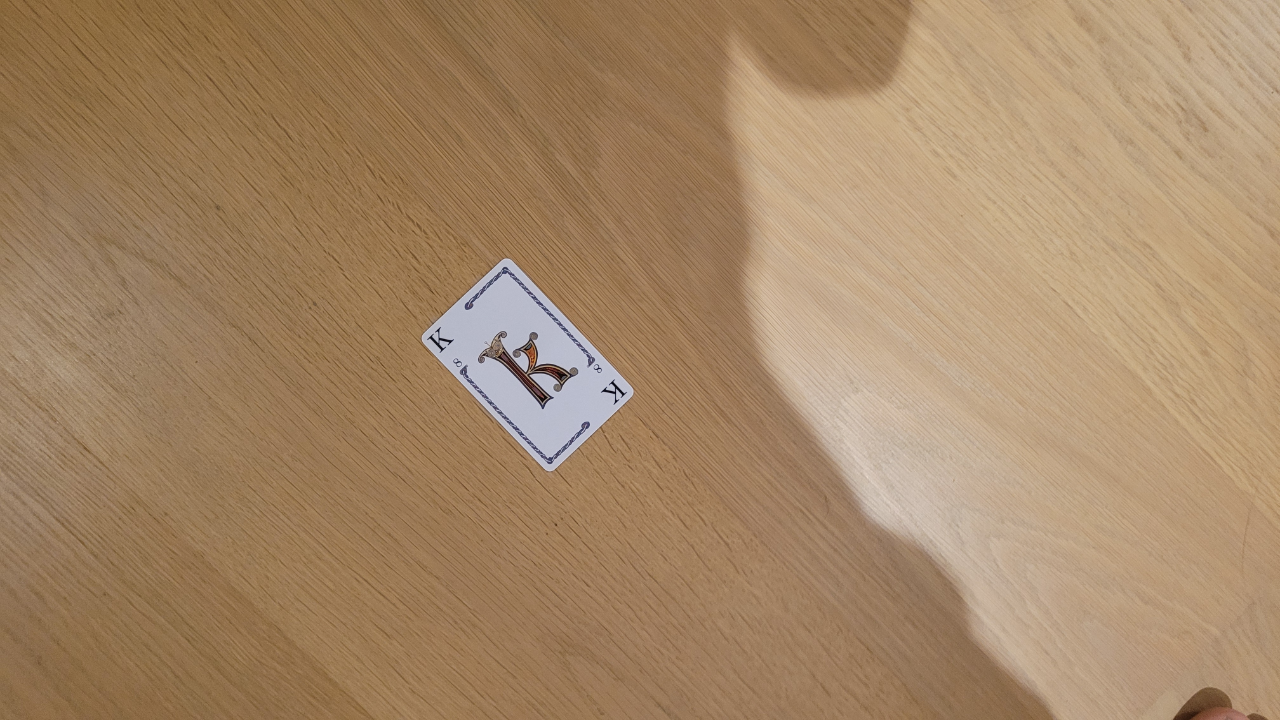quiddler_card: (417, 257, 644, 477)
